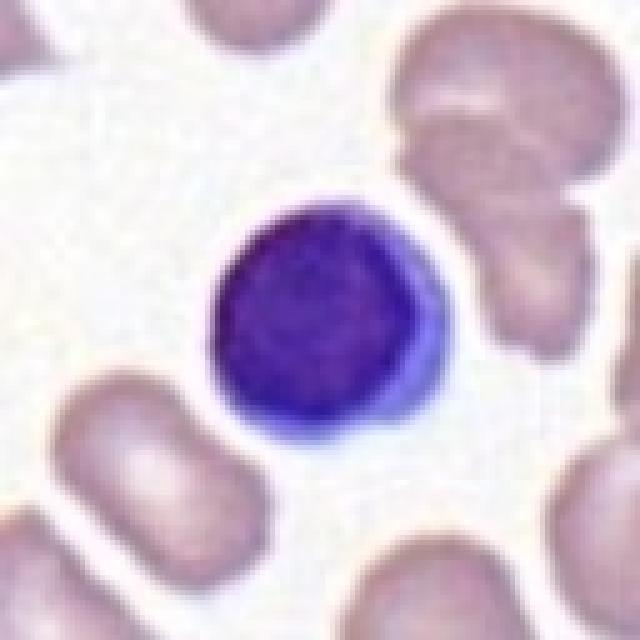lympho: (203, 188, 456, 453)
